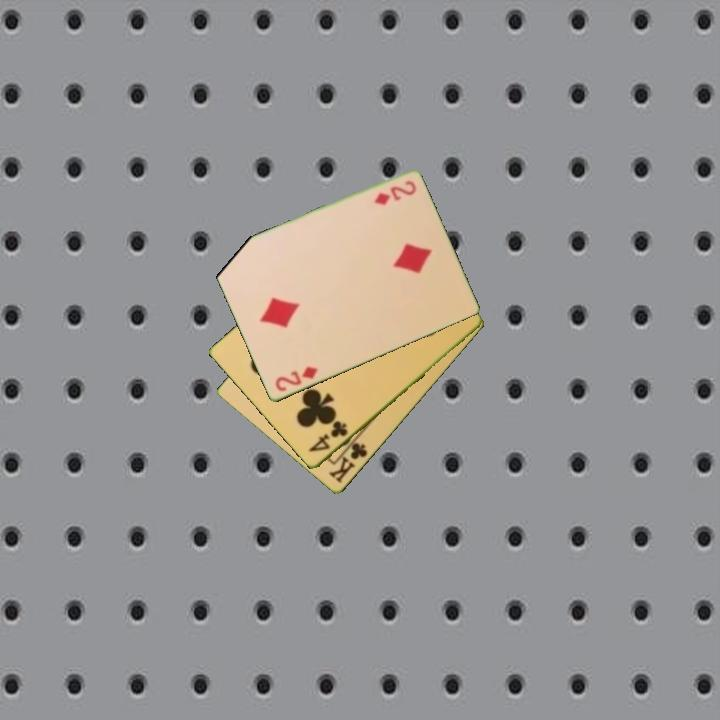2d: (272, 363, 321, 395), (370, 177, 419, 208)
4c: (305, 417, 351, 455)
Kc: (325, 434, 371, 486)
